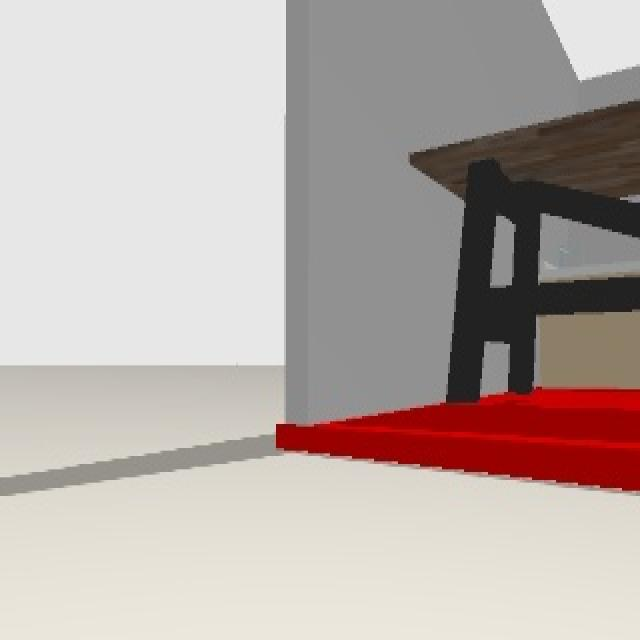dining: (408, 94, 640, 406)
